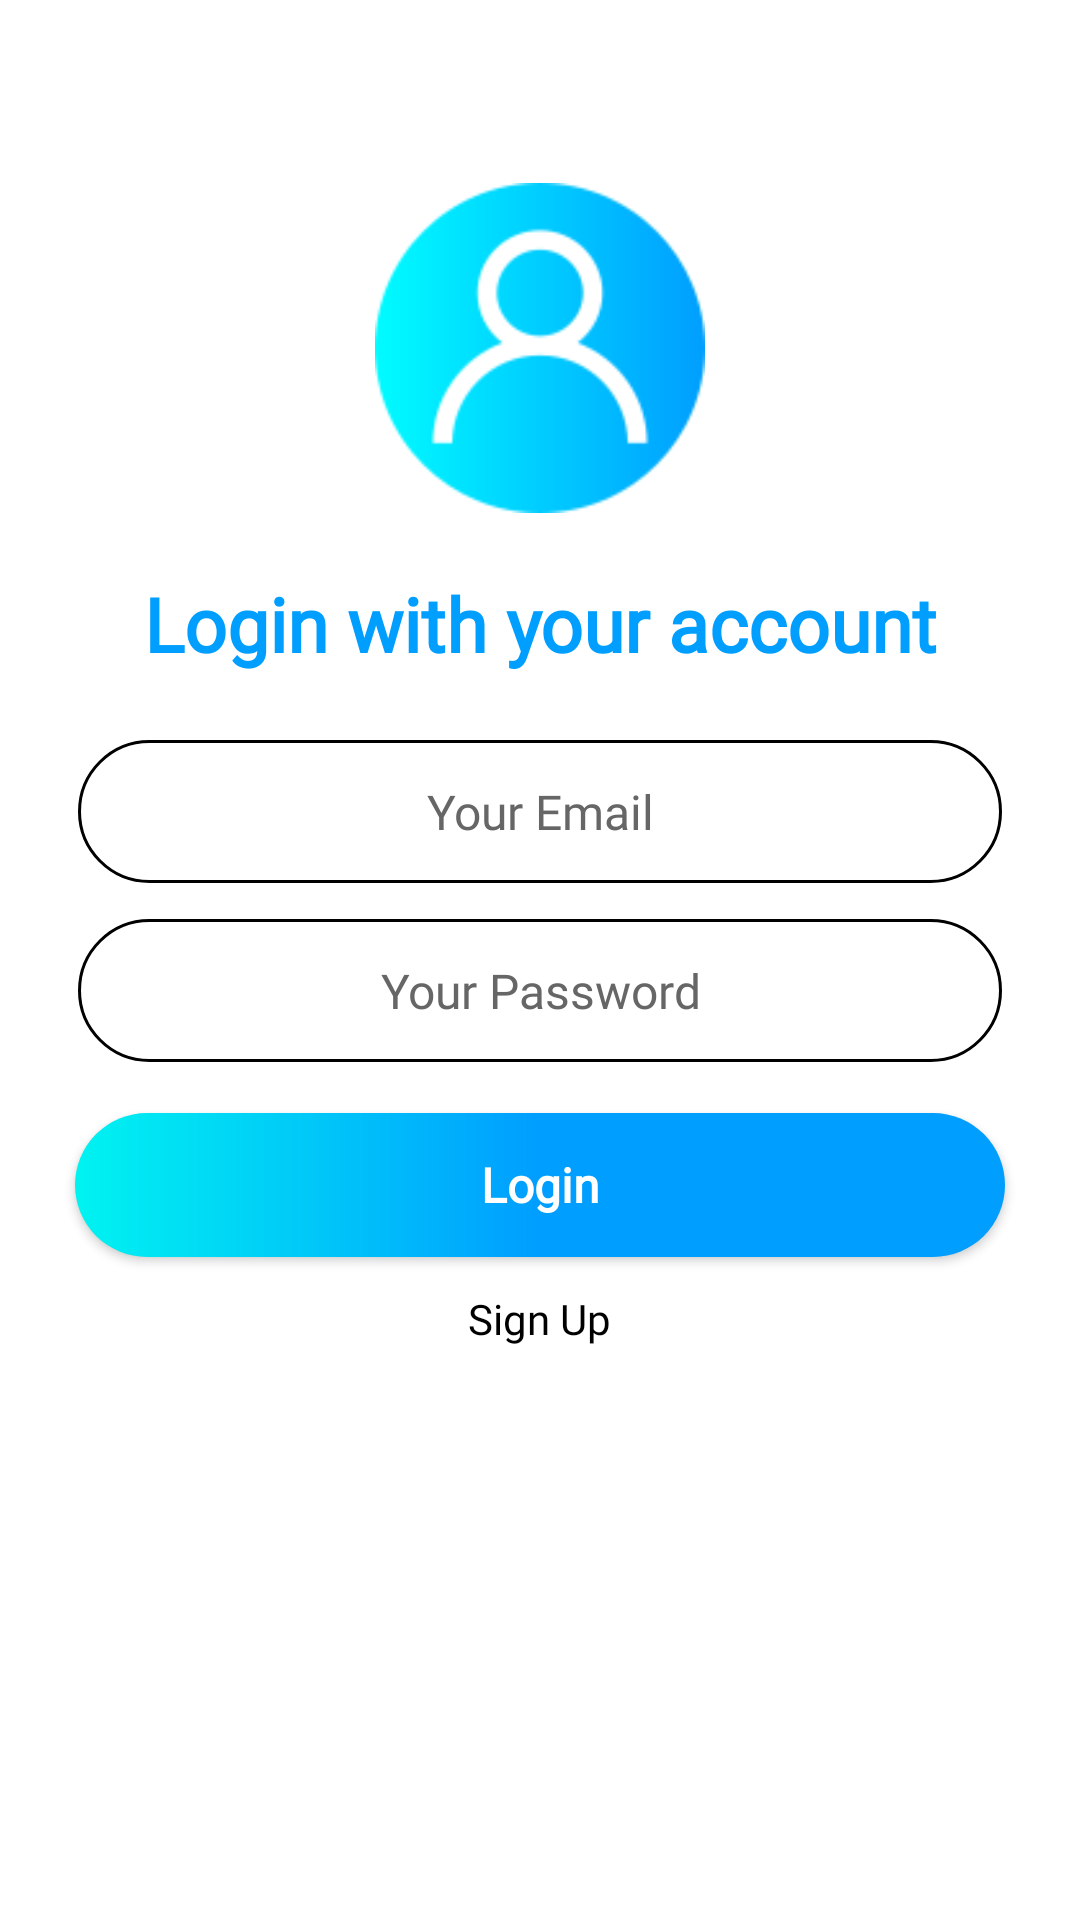

Where to tap for icons on this 1080x1920 app screen, as [x,y]:
profile user: [540,348]
